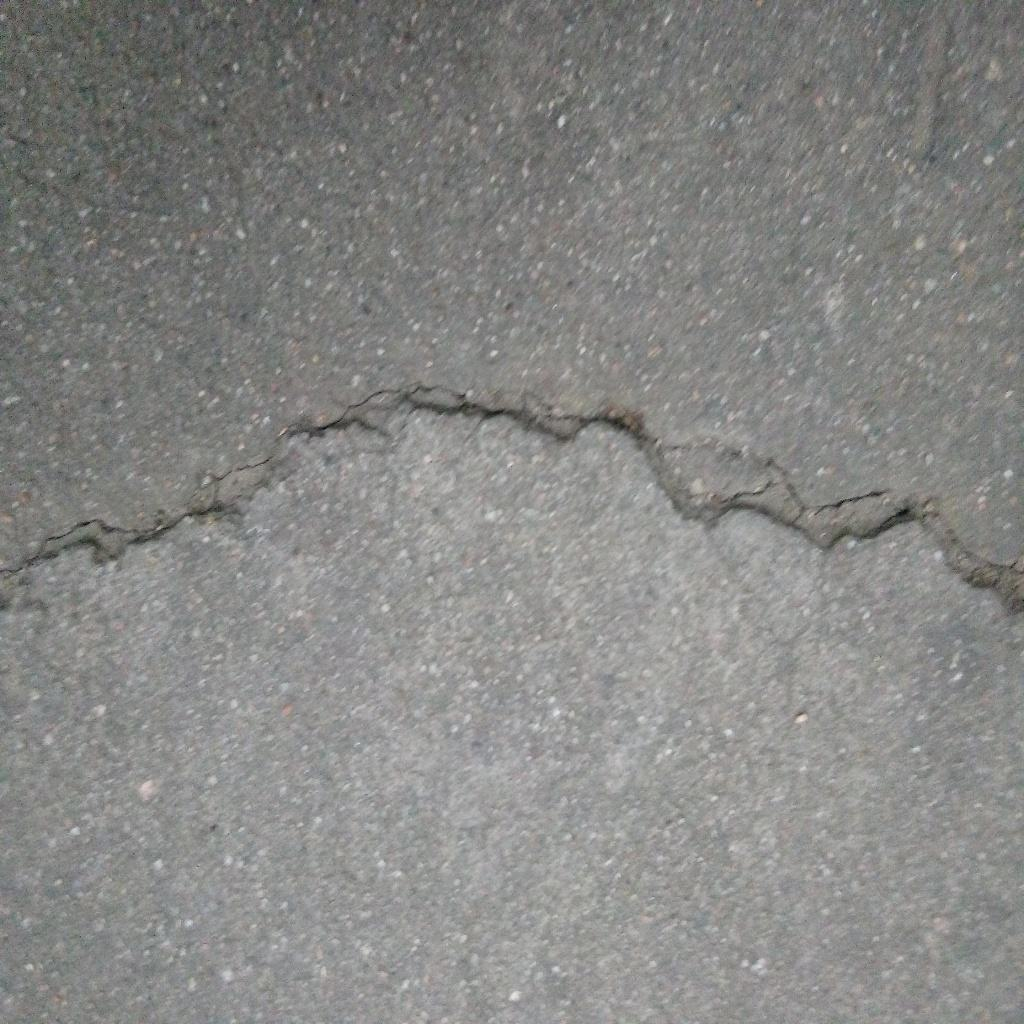Crack: (1, 381, 1024, 618)
